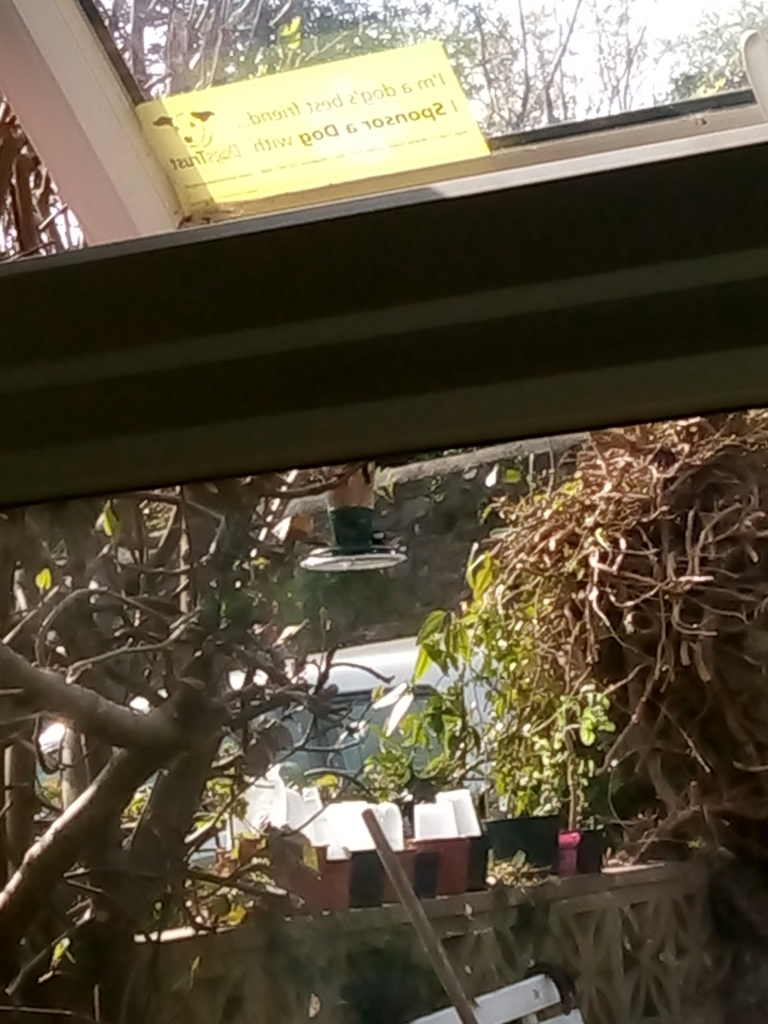Periparus_ater: (300, 531, 409, 558)
